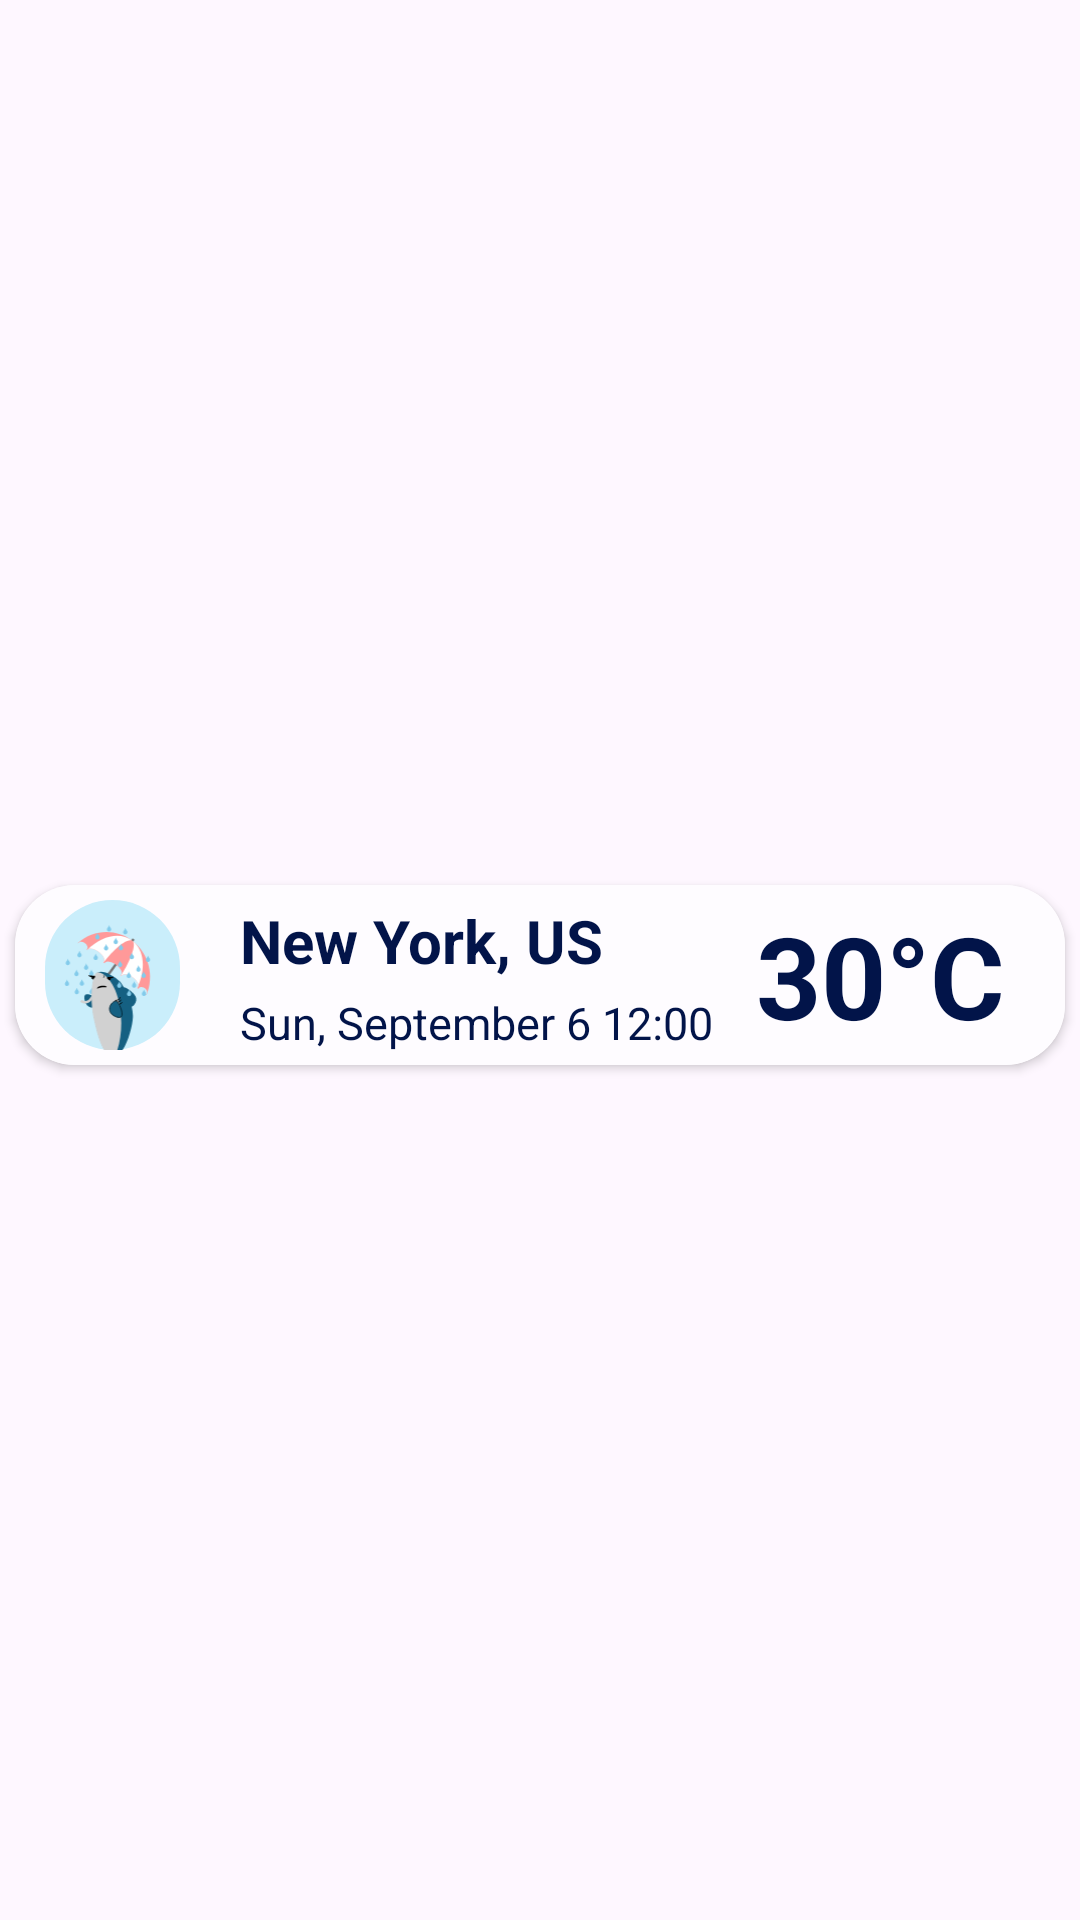

Locate icon controls on the screen. Image size 1080 × 1920, boxes as (x1, y1, x2, y2).
rainyday: (45, 900, 180, 1050)
